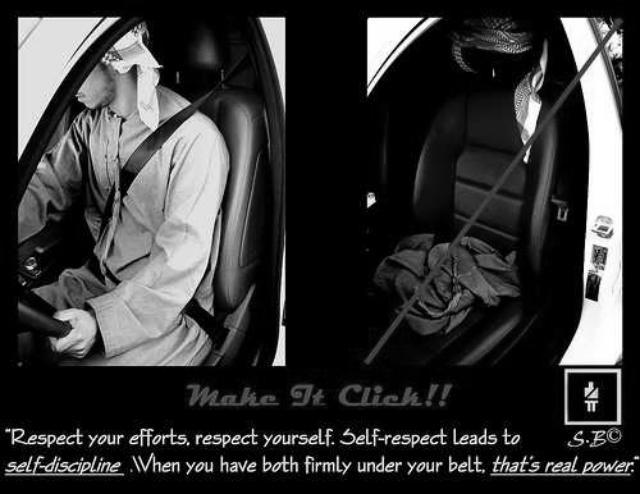Seatbelt: (81, 56, 242, 340)
